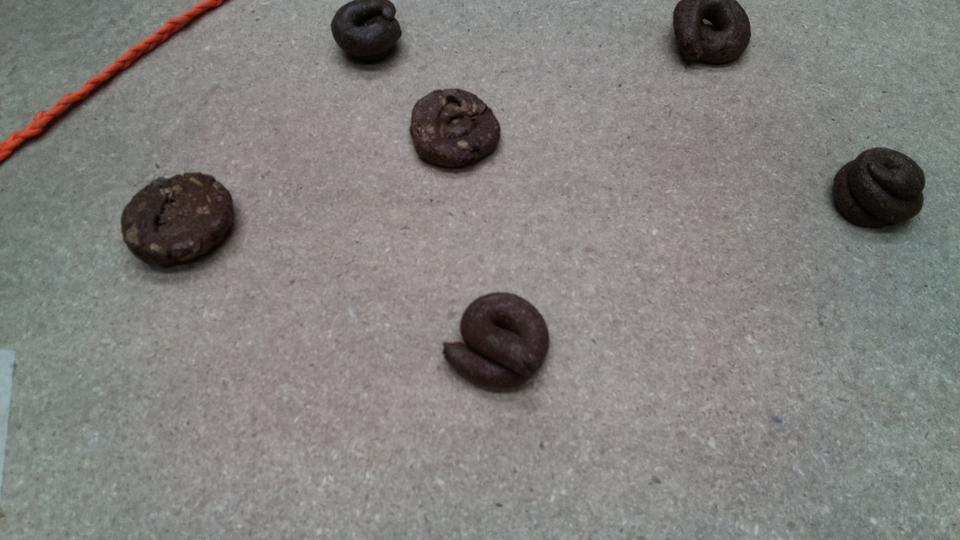poop: (440, 285, 561, 394), (120, 169, 239, 271), (827, 137, 932, 239), (406, 83, 503, 172), (664, 1, 760, 72), (323, 1, 408, 66)
rope: (119, 1, 237, 69), (1, 111, 84, 178), (50, 61, 134, 126)
